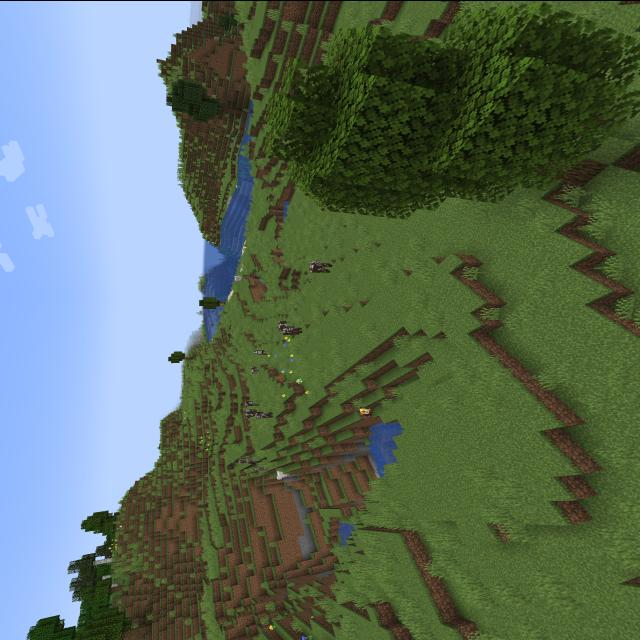bee: (356, 406, 375, 418)
cow: (302, 258, 340, 274), (279, 323, 305, 337), (274, 316, 292, 332), (253, 408, 276, 420), (240, 407, 260, 419), (249, 363, 264, 378), (242, 397, 262, 407), (252, 348, 270, 357)
